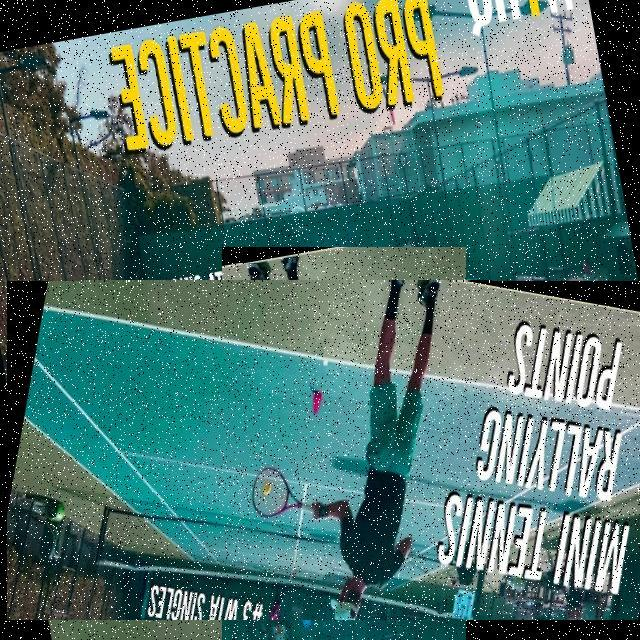court: (7, 281, 640, 620)
net: (84, 264, 492, 406)
player: (222, 247, 466, 640)
